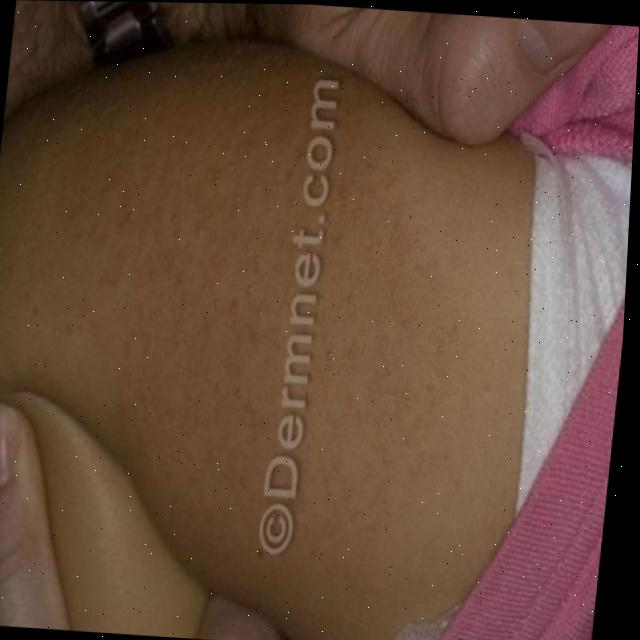Eczema: (16, 127, 473, 431)
